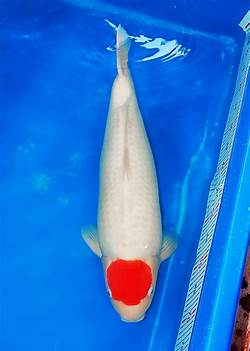sun: (81, 21, 179, 323)
